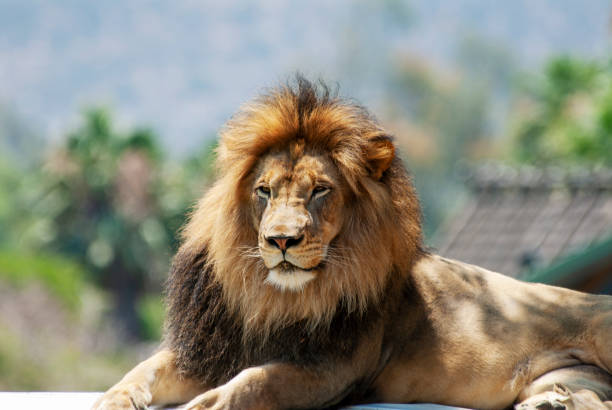lion: (139, 66, 444, 369)
